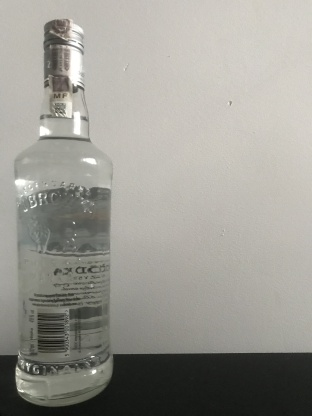nakretka: (41, 17, 87, 91)
